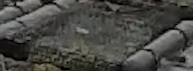bag: (2, 1, 193, 69)
